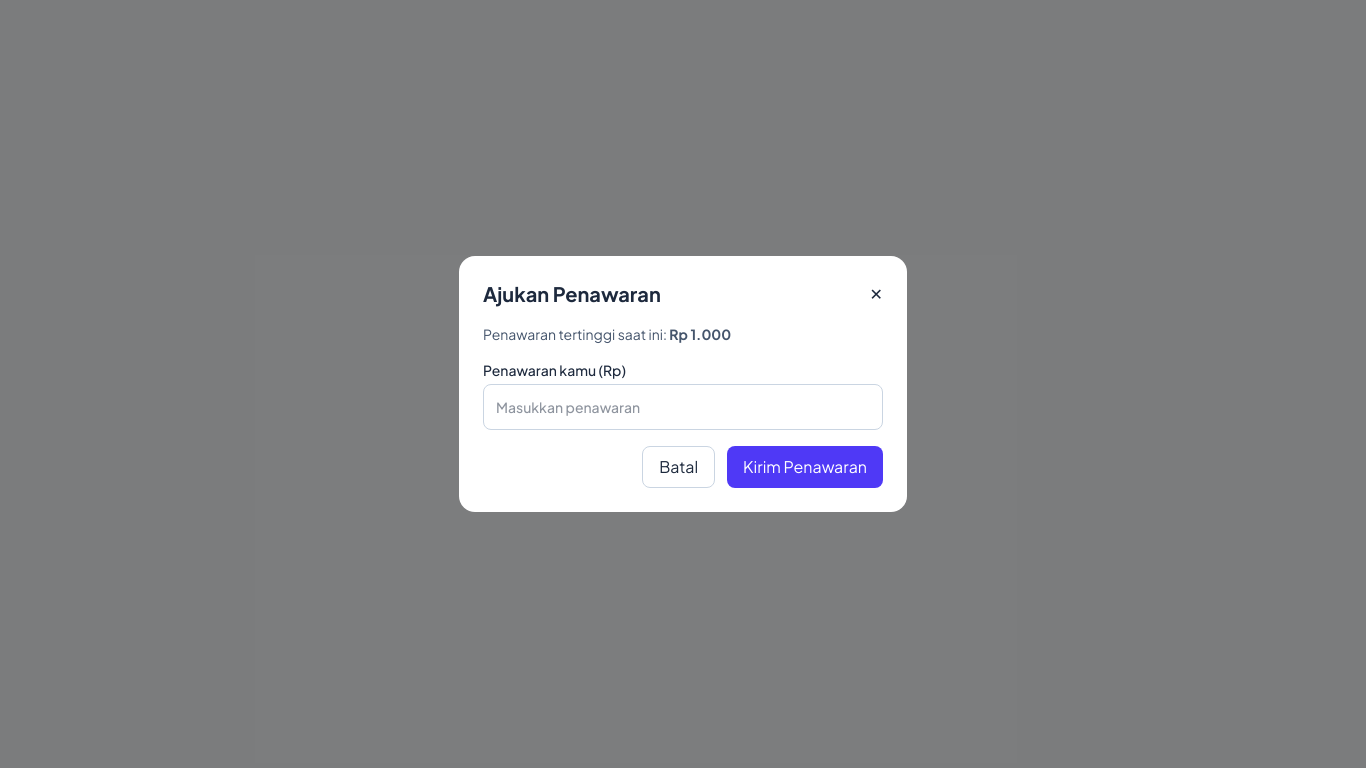
BidModal › menolak bid yang tidak lebih tinggi
In the number field labelled "Penawaran kamu (Rp)": (683, 407) [483, 384, 883, 430], type "1000"
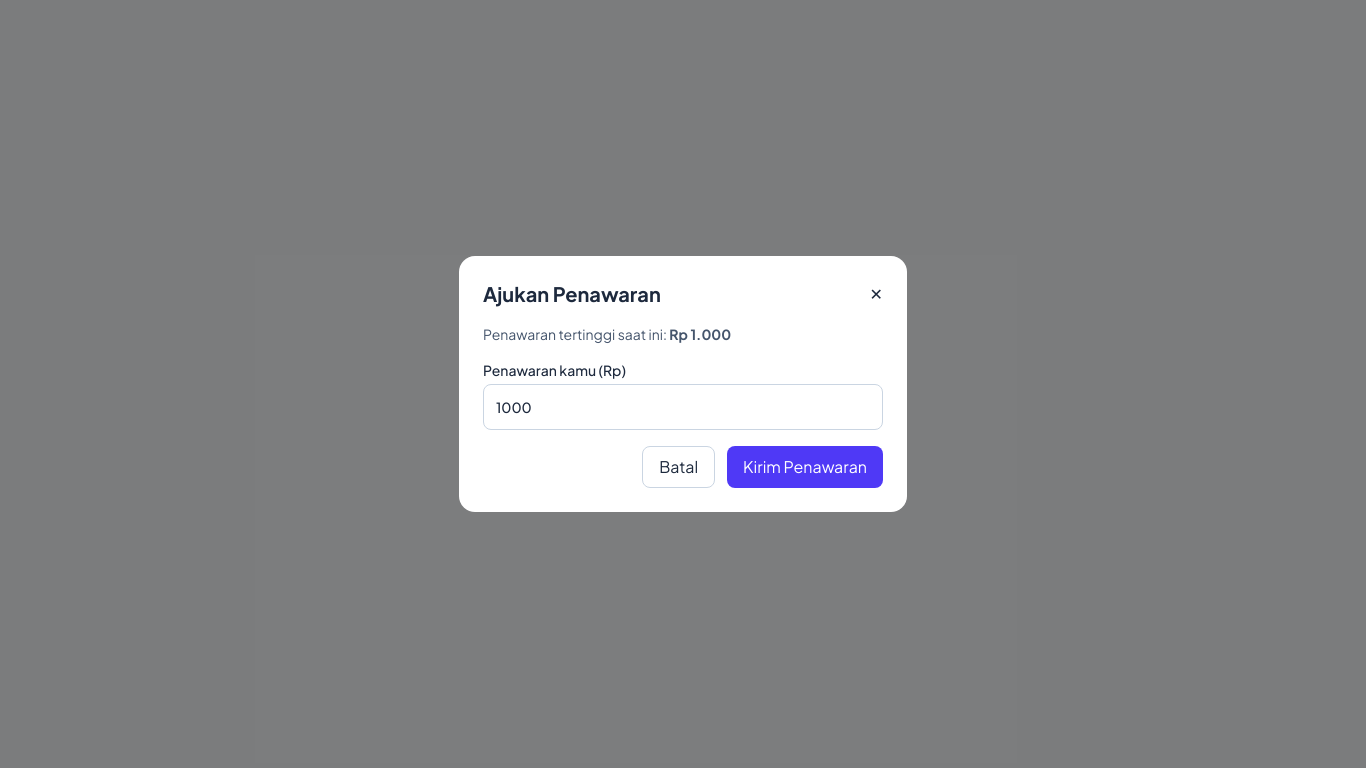
Submit the form, box [459, 256, 907, 512]
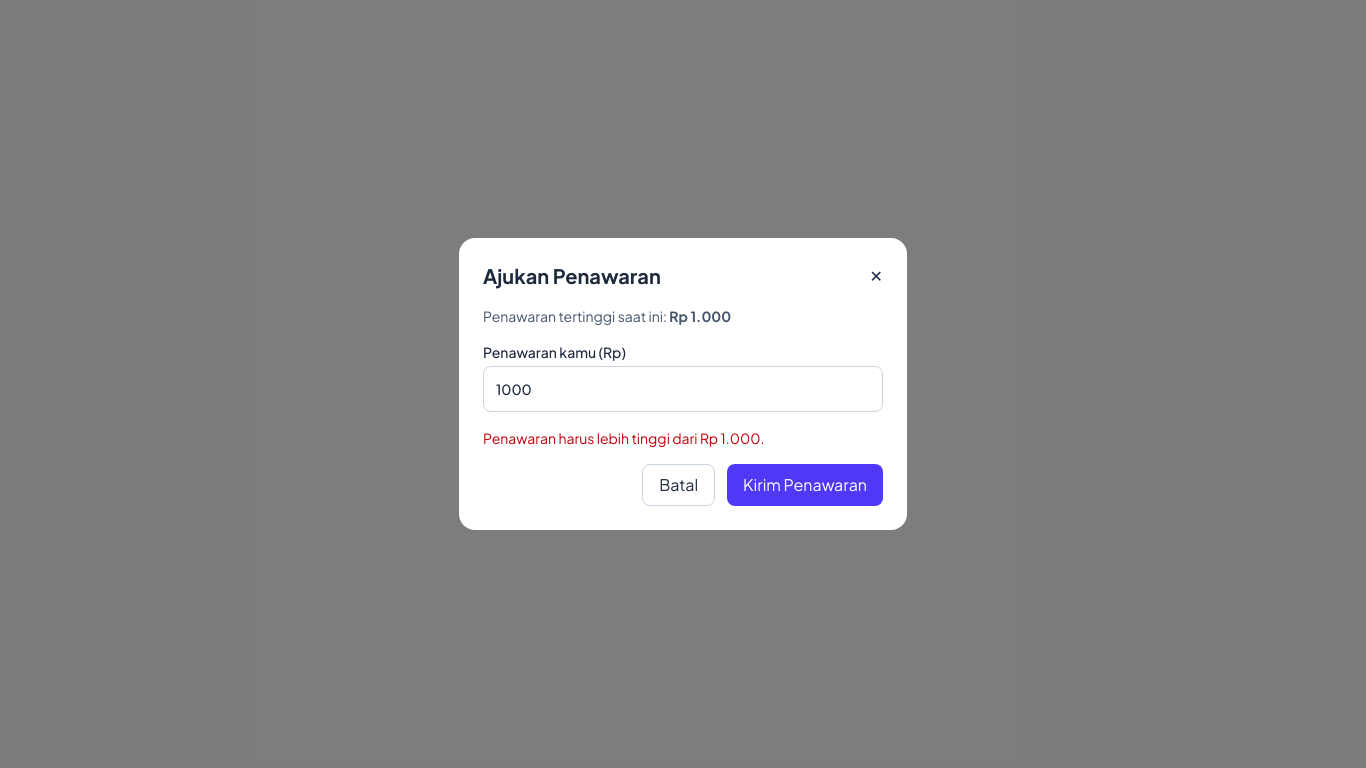
Now the message "Penawaran harus lebih tinggi dari Rp 1.000." is shown, box [483, 429, 764, 447]
